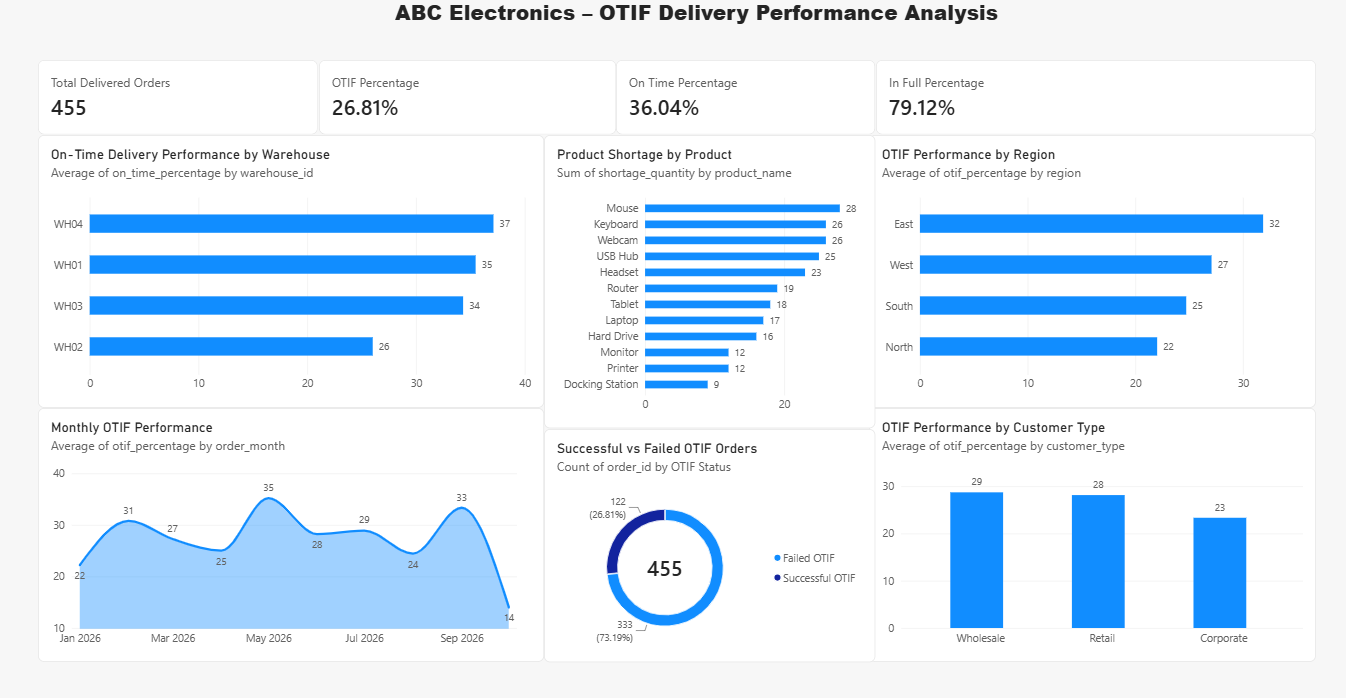

What the dashboard file says about the page in this screenshot:
{"tool":"powerbi","page":{"name":"Page 1","canvas":[1920,1080],"ordinal":0},"visuals":[{"type":"cardVisual","fields":{"Data":["otif_order_performance.OTIF Percentage"]},"box":[465.5,113.8,391.4,98.3],"z":0},{"type":"cardVisual","fields":{"Data":["CountNonNull(otif_order_performance.otif)"]},"box":[96.6,113.8,369,98.3],"z":1000},{"type":"cardVisual","fields":{"Data":["customer_type_analysis.On Time Percentage"]},"box":[856.9,113.8,341.4,98.3],"z":2000},{"type":"cardVisual","fields":{"Data":["customer_type_analysis.In Full Percentage"]},"box":[1198.3,113.8,579.3,98.3],"z":3000},{"type":"lineChart","title":"Monthly OTIF Performance","fields":{"Category":["monthly_analysis.order_month"],"Y":["Avg(monthly_analysis.otif_percentage)"]},"box":[96.6,570.7,665.5,334.5],"z":4000},{"type":"clusteredBarChart","title":"\tOTIF Performance by Region","fields":{"Category":["region_analysis.region"],"Y":["Avg(region_analysis.otif_percentage)"]},"box":[1189.7,212.1,587.9,358.6],"z":5000},{"type":"clusteredColumnChart","title":"\tOTIF Performance by Customer Type","fields":{"Category":["customer_type_analysis.customer_type"],"Y":["Avg(customer_type_analysis.otif_percentage)"]},"box":[1189.7,570.7,587.9,334.5],"z":6000},{"type":"clusteredBarChart","title":"Product Shortage by Product","fields":{"Category":["product_analysis.product_name"],"Y":["Sum(product_analysis.shortage_quantity)"]},"box":[762.1,212.1,436.2,386.2],"z":7000},{"type":"clusteredBarChart","title":"\tOn-Time Delivery Performance by Warehouse","fields":{"Category":["warehouse_analysis.warehouse_id"],"Y":["Avg(warehouse_analysis.on_time_percentage)"]},"box":[96.6,212.1,665.5,358.6],"z":8000},{"type":"donutChart","title":"\tSuccessful vs Failed OTIF Orders","fields":{"Category":["otif_order_performance.OTIF Status"],"Y":["CountNonNull(otif_order_performance.order_id)"]},"box":[762.1,598.3,436.2,306.9],"z":9000},{"type":"textbox","title":"ABC Electronics – OTIF Delivery Performance Analysis","box":[565.5,31,829.3,94.8],"z":10000}]}

Visuals, with their boxes on the page's 1920x1080 design canvas (x1, y1, x2, y2). These are canvas units, not pixel positions in the 1346x698 screenshot, which may show the page scaled, cropped or inside an application window:
cardVisual - otif_order_performance.OTIF Percentage: (left=466, top=114, right=857, bottom=212)
cardVisual - CountNonNull(otif_order_performance.otif): (left=97, top=114, right=466, bottom=212)
cardVisual - customer_type_analysis.On Time Percentage: (left=857, top=114, right=1198, bottom=212)
cardVisual - customer_type_analysis.In Full Percentage: (left=1198, top=114, right=1778, bottom=212)
"Monthly OTIF Performance" lineChart: (left=97, top=571, right=762, bottom=905)
"	OTIF Performance by Region" clusteredBarChart: (left=1190, top=212, right=1778, bottom=571)
"	OTIF Performance by Customer Type" clusteredColumnChart: (left=1190, top=571, right=1778, bottom=905)
"Product Shortage by Product" clusteredBarChart: (left=762, top=212, right=1198, bottom=598)
"	On-Time Delivery Performance by Warehouse" clusteredBarChart: (left=97, top=212, right=762, bottom=571)
"	Successful vs Failed OTIF Orders" donutChart: (left=762, top=598, right=1198, bottom=905)
"ABC Electronics – OTIF Delivery Performance Analysis" textbox: (left=566, top=31, right=1395, bottom=126)
